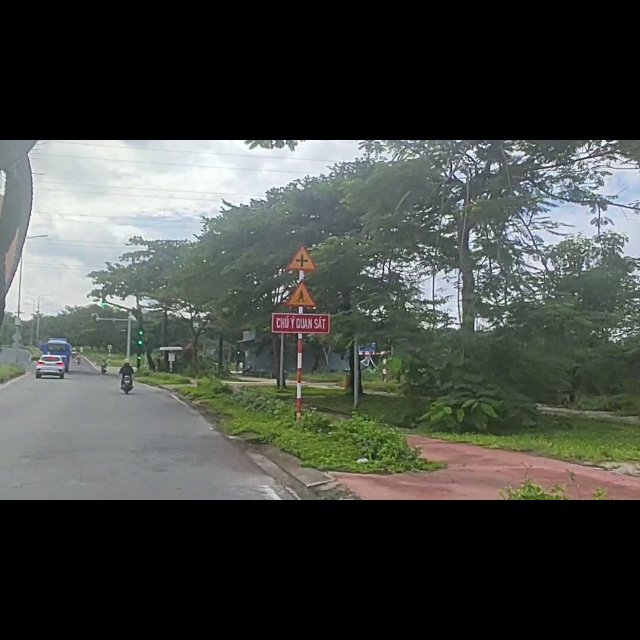bien_nguy_hiem: (284, 247, 320, 300), (286, 185, 320, 235)
